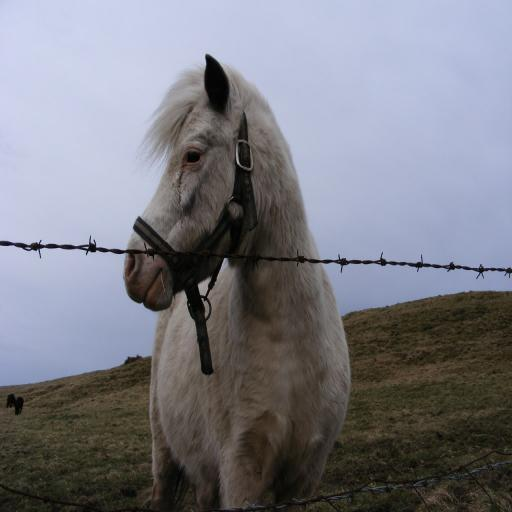horse: (122, 52, 352, 510)
